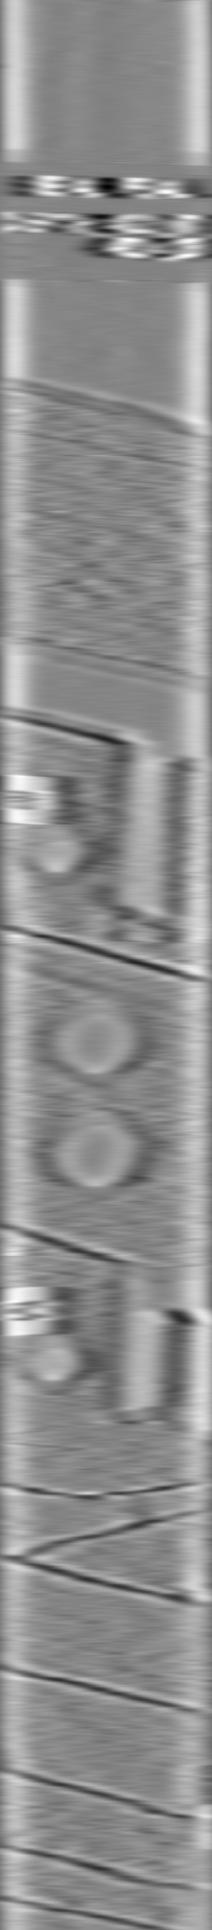hplug: (17, 814, 95, 890), (14, 1326, 91, 1402)
scal: (47, 1104, 153, 1206), (47, 986, 147, 1088)
vplug: (107, 742, 187, 954), (105, 1248, 182, 1431)
